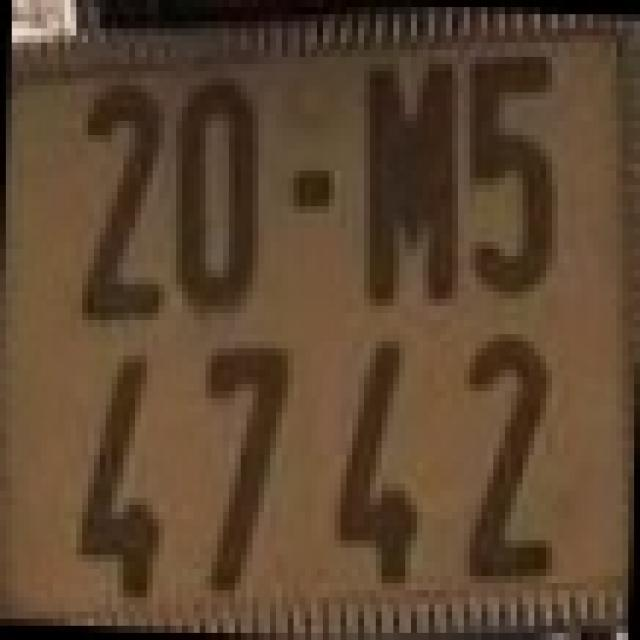0: (170, 71, 264, 313)
2: (458, 327, 564, 583), (70, 71, 170, 327)
4: (70, 348, 170, 604), (334, 334, 428, 590)
5: (464, 49, 564, 298)
7: (200, 342, 294, 590)
M: (358, 61, 464, 310)
